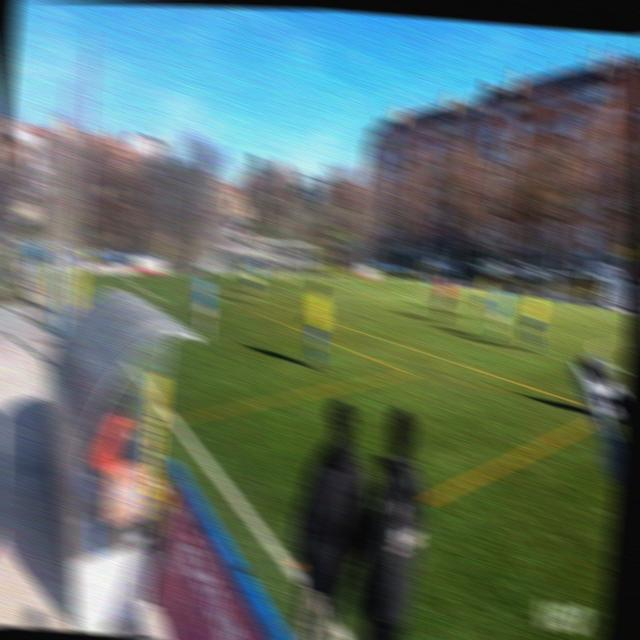bigarea_bottom_inner: (153, 289, 169, 310)
bigarea_top_inner: (485, 290, 497, 300)
smallarea_bottom_inner: (231, 276, 246, 288)
smallarea_bottom_outter: (213, 271, 226, 280)
smallarea_top_inner: (358, 278, 373, 289)
smallarea_top_outter: (334, 275, 347, 283)
top_arc_area_intersection: (419, 290, 432, 300)
